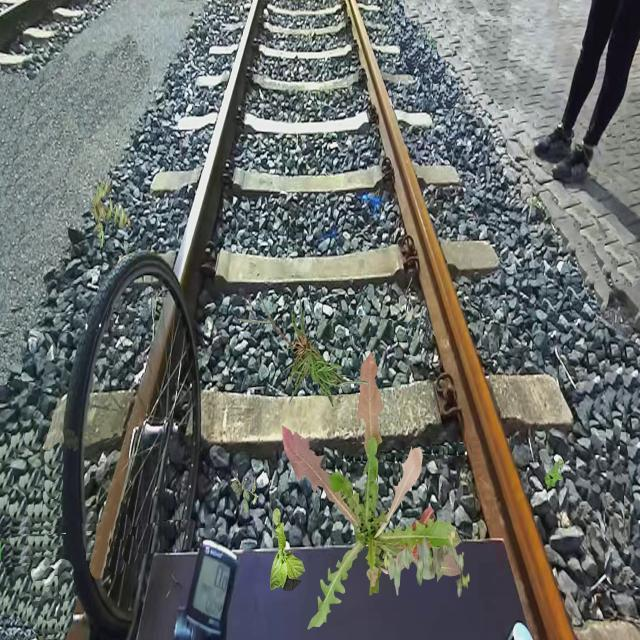Plant: (282, 352, 462, 630), (238, 288, 382, 408), (383, 529, 470, 598), (90, 178, 132, 250), (270, 508, 306, 592), (232, 474, 260, 515), (544, 458, 564, 490)
